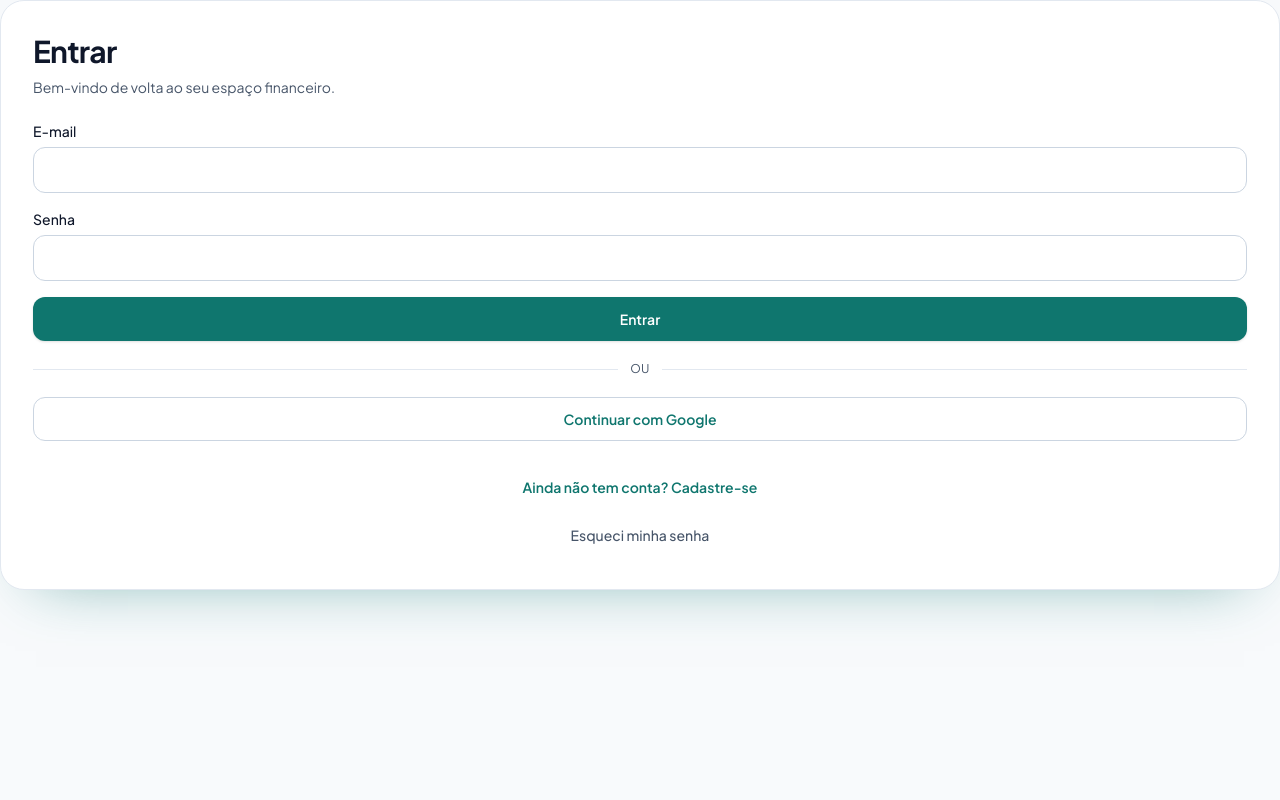
Test: LoginForm › mantém estado pendente durante autenticação
Type "ana@example.com" into the field labelled "E-mail". click: (640, 170)
box: [33,147,1247,193]
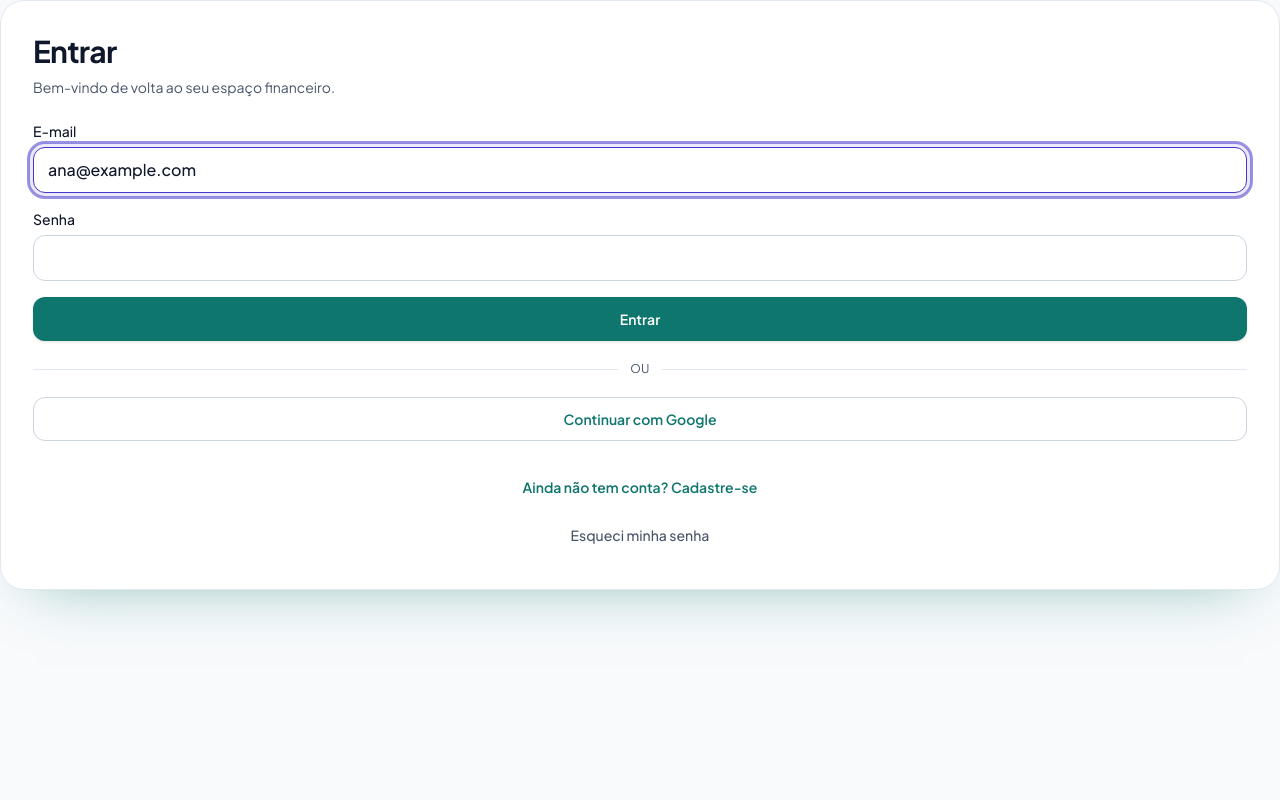
Type "senha-segura" into the password field labelled "Senha". click: (640, 258)
box: [33,235,1247,281]
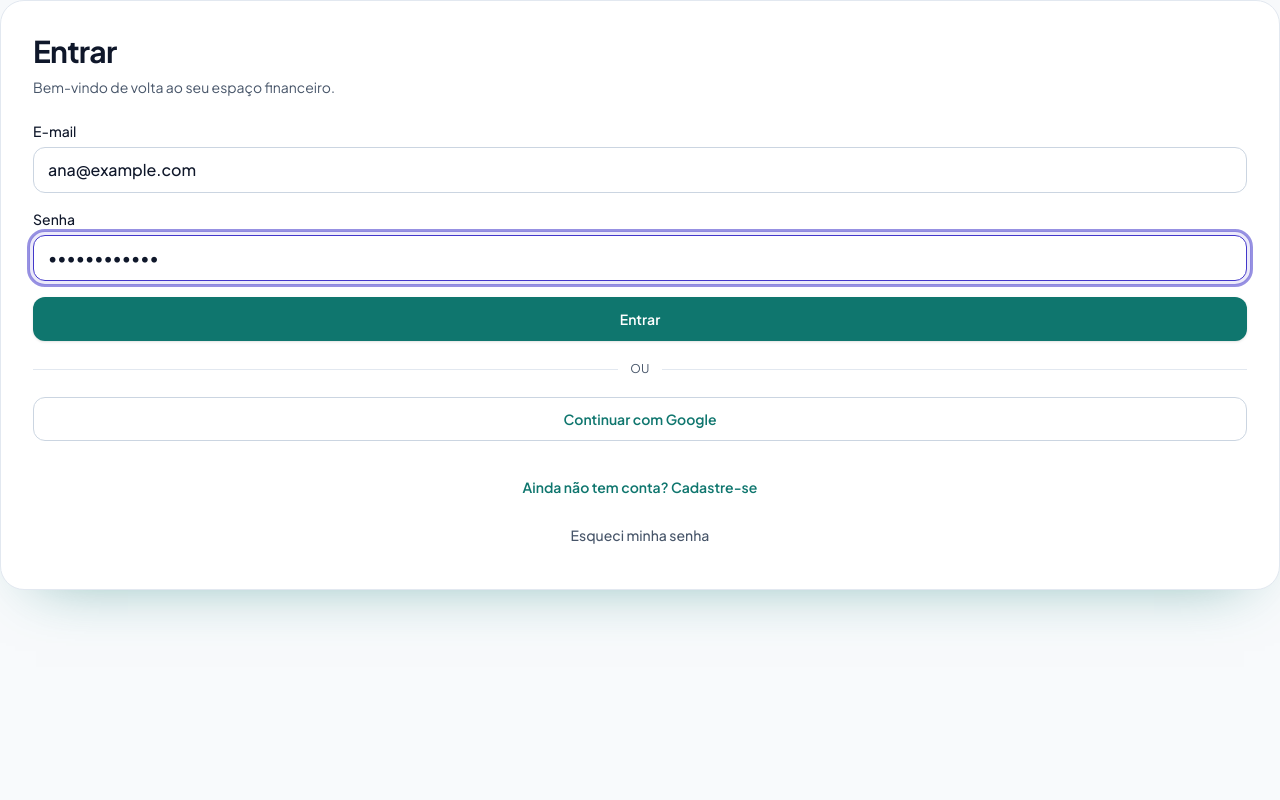
Click the button "Entrar". click: (640, 319)
box: [33,297,1247,341]
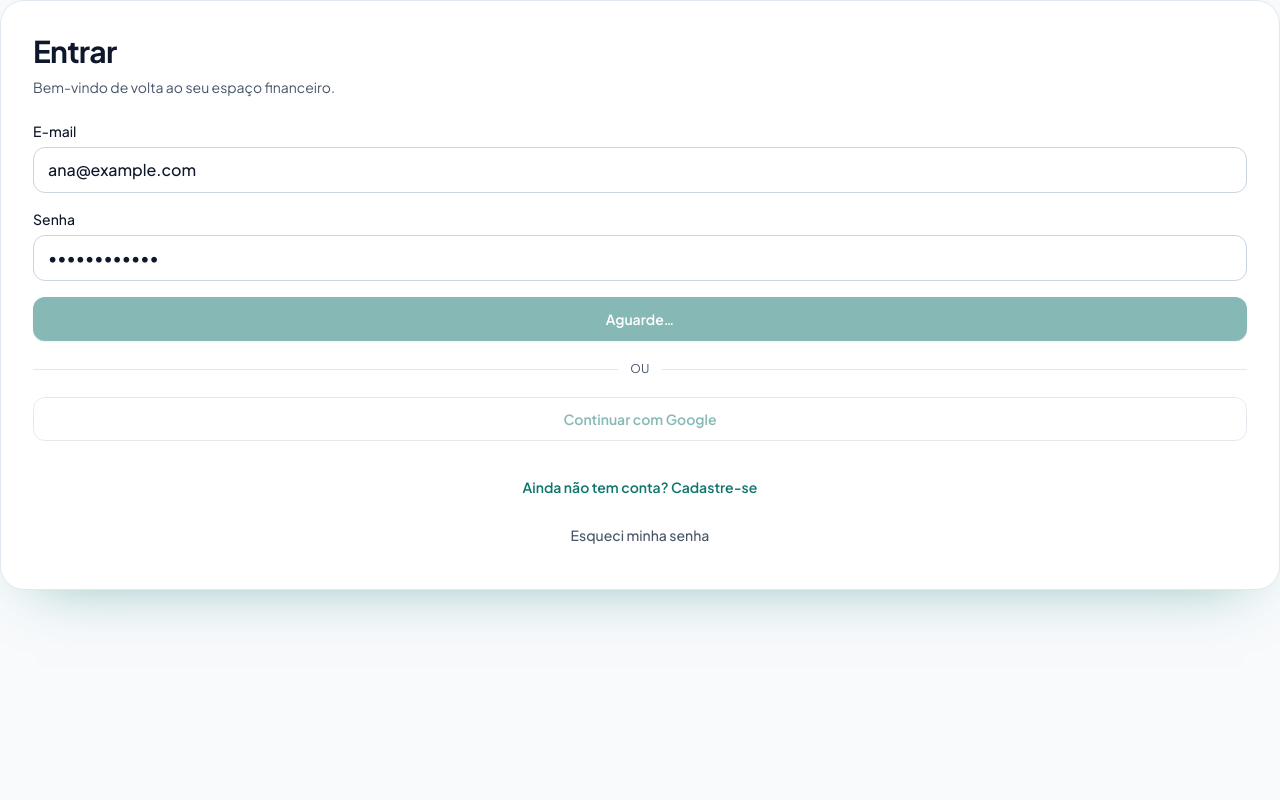
Expected: the button "Aguarde…" is disabled, [33,297,1247,341]
Expected: the button "Continuar com Google" is disabled, [33,397,1247,441]
